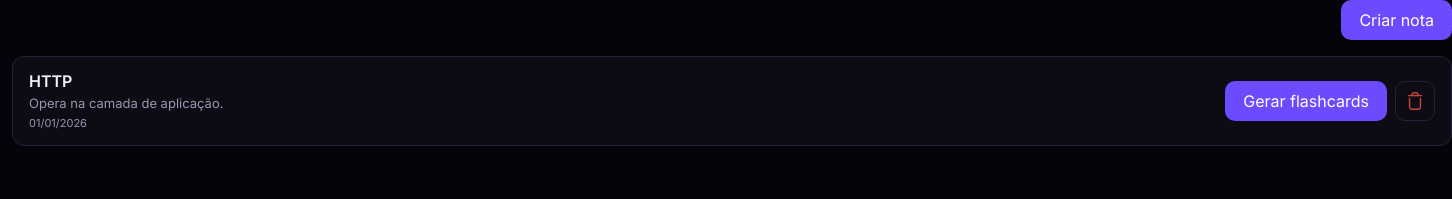
it: NotesTab › erro da geração 0
Expected: the link "HTTP" is shown, x1=29 y1=71 x2=72 y2=91
Click the button with aria-label "Gerar flashcards de HTTP".
click(1306, 101)  # box x1=1225 y1=81 x2=1387 y2=121
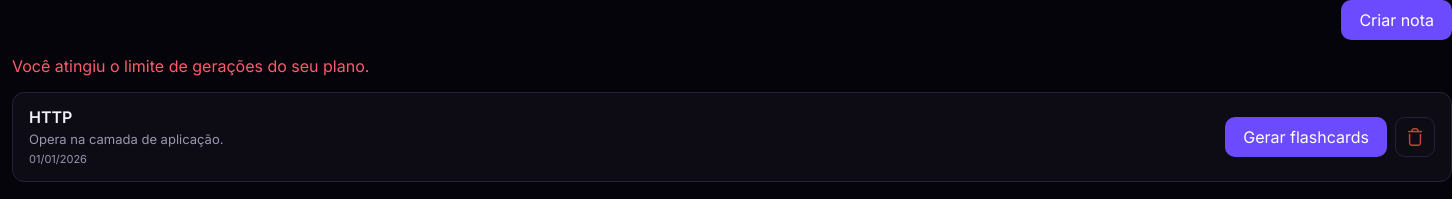
Expected: the message reads "Você atingiu o limite de gerações do seu plano.", x1=12 y1=56 x2=369 y2=76
